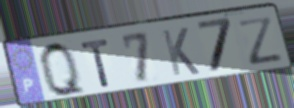7: (195, 15, 235, 76), (120, 30, 153, 86)
K: (159, 26, 202, 78)
Q: (37, 39, 89, 99)
T: (79, 36, 113, 89)
Z: (235, 14, 285, 67)
